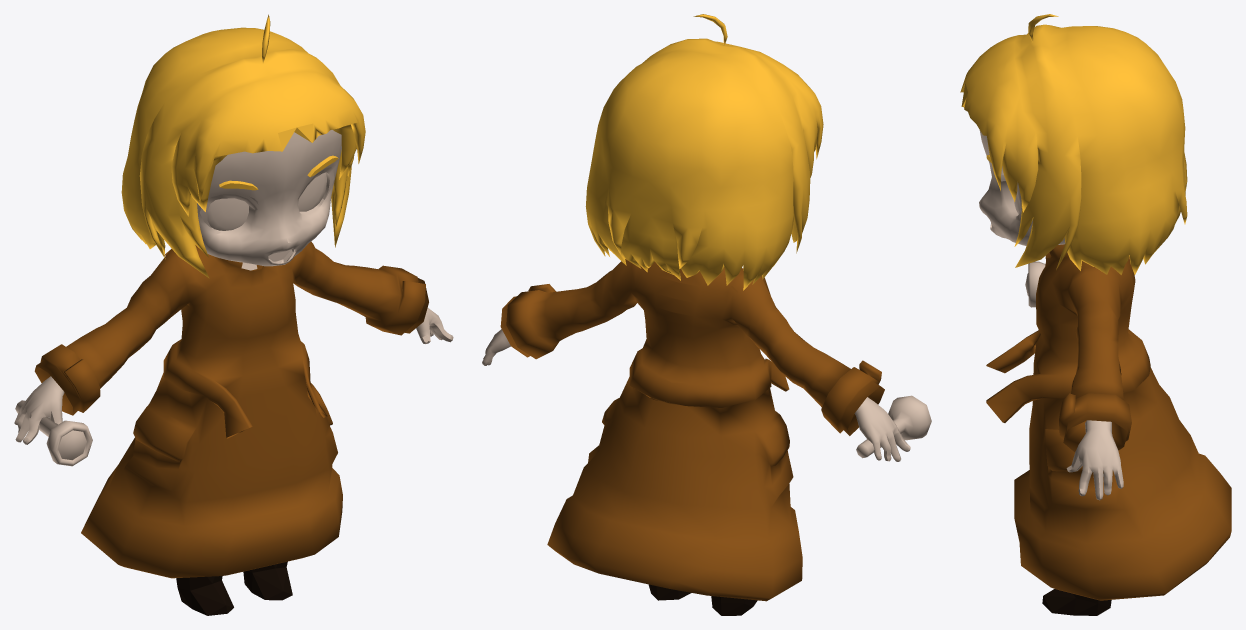
File: Nikolai.FBX
3 renders of one model, left to right at view 1: azimuth 30°, elevation 25°; view 2: azimuth 150°, elevation 25°; view 3: azimuth 270°, elevation 25°, orthographic. The views are drawn at different scales.
Visible parts, largest first — view 1: Personaje; view 2: Personaje; view 3: Personaje.
Boxes of the visible parts, box(x1,y1,x2,y2) form: Personaje: box(14, 14, 453, 615); Personaje: box(482, 14, 931, 615); Personaje: box(960, 14, 1231, 615).
Bounding box in the file's own units: 114 × 148 × 62.12.
